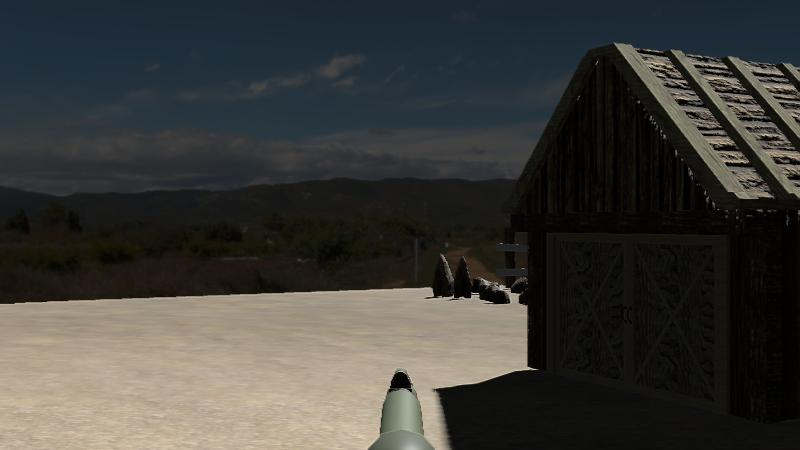House: (508, 42, 799, 414)
